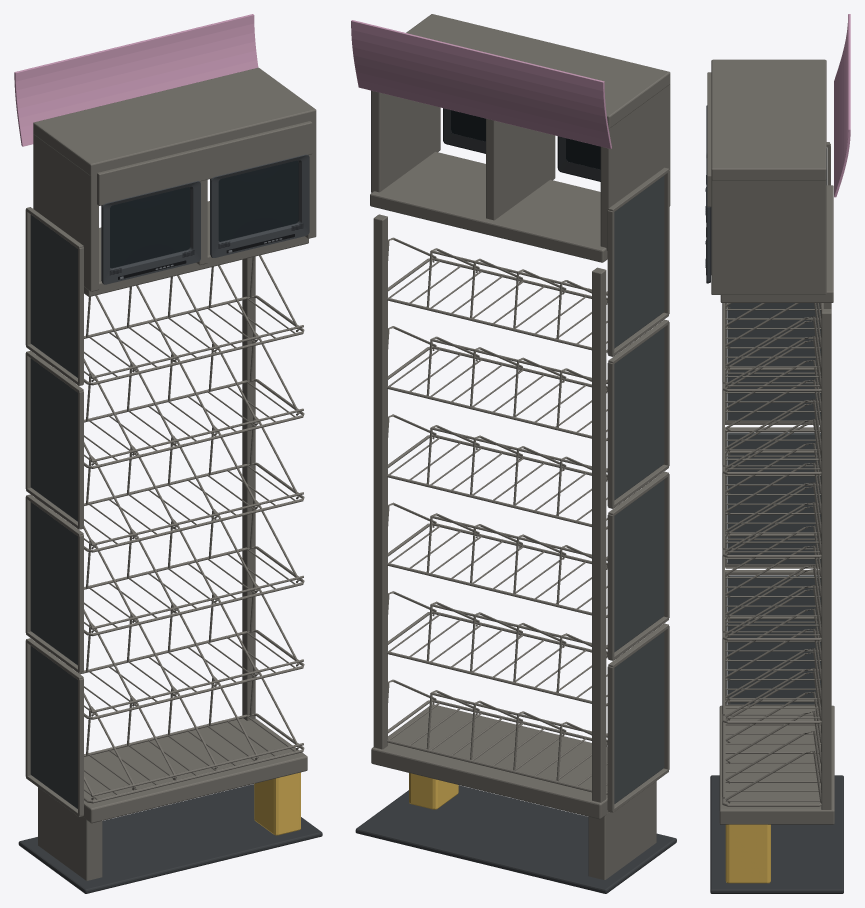
The model's file is twin-crt-tower.glb.
3 views of the same model, side by side, from view 1: azimuth 30°, elevation 25°; view 2: azimuth 150°, elevation 25°; view 3: azimuth 270°, elevation 25° (orthographic). The views are drawn at different scales.
Visible parts, largest first — view 1: twin-crt-tower; view 2: twin-crt-tower; view 3: twin-crt-tower.
Boxes of the visible parts, x1,y1,x2,y2 form: twin-crt-tower: (14,14,322,893); twin-crt-tower: (351,14,676,893); twin-crt-tower: (705,14,850,893).
Size of the model in its own units: 2.66 by 8.21 by 1.41.
